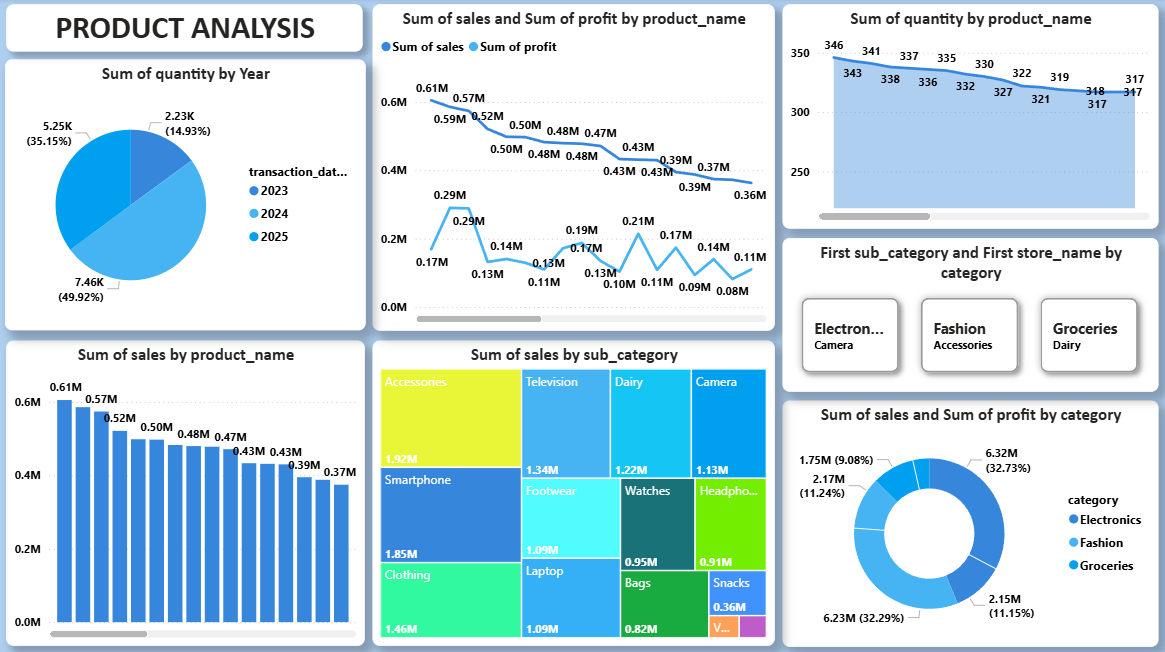

Layout of this report page (visuals, bound fields, positions):
{"tool":"powerbi","page":{"name":"PRODUCT ANALYSIS","canvas":[1280,720],"ordinal":1},"visuals":[{"type":"columnChart","fields":{"Category":["public master_sales.product_name"],"Y":["Sum(public master_sales.sales)"]},"box":[7.2,376.4,393.3,335.4],"z":0},{"type":"donutChart","fields":{"Category":["public master_sales.category"],"Y":["Sum(public master_sales.sales)","Sum(public master_sales.profit)"]},"box":[859,441.6,412.6,270.2],"z":1000},{"type":"treemap","fields":{"Group":["public master_sales.sub_category"],"Values":["Sum(public master_sales.sales)"]},"box":[409,376.4,441.6,335.4],"z":2000},{"type":"lineChart","fields":{"Category":["public master_sales.product_name"],"Y":["Sum(public master_sales.sales)","Sum(public master_sales.profit)"]},"box":[409,7.2,441.6,358.3],"z":3000},{"type":"areaChart","fields":{"Category":["public master_sales.product_name"],"Y":["Sum(public master_sales.quantity)"]},"box":[859,7.2,412.6,246.1],"z":4000},{"type":"advancedSlicerVisual","fields":{"Values":["public master_sales.category"],"Label":["Min(public master_sales.sub_category)"]},"box":[859,263,412.6,168.9],"z":5000},{"type":"pieChart","fields":{"Category":["public master_sales.transaction_date.Variation.Date Hierarchy.Year","public master_sales.transaction_date.Variation.Date Hierarchy.Quarter","public master_sales.transaction_date.Variation.Date Hierarchy.Month","public master_sales.transaction_date.Variation.Date Hierarchy.Day"],"Y":["Sum(public master_sales.quantity)"]},"box":[4.8,67.6,395.7,298],"z":6000},{"type":"textbox","title":"PRODUCT ANALYSIS","box":[7.2,7.2,390.9,51.9],"z":7000}]}

Visuals, with their boxes in screenshot pixels (x1, y1, x2, y2), scaled from the page's 1280x720 canvas onto the 1165x652 screenshot:
columnChart - public master_sales.product_name x Sum(public master_sales.sales): Rect(7, 341, 365, 645)
donutChart - public master_sales.category x Sum(public master_sales.sales): Rect(782, 400, 1157, 645)
treemap - public master_sales.sub_category x Sum(public master_sales.sales): Rect(372, 341, 774, 645)
lineChart - public master_sales.product_name x Sum(public master_sales.sales): Rect(372, 7, 774, 331)
areaChart - public master_sales.product_name x Sum(public master_sales.quantity): Rect(782, 7, 1157, 229)
advancedSlicerVisual - public master_sales.category x Min(public master_sales.sub_category): Rect(782, 238, 1157, 391)
pieChart - public master_sales.transaction_date.Variation.Date Hierarchy.Year x public master_sales.transaction_date.Variation.Date Hierarchy.Quarter: Rect(4, 61, 365, 331)
"PRODUCT ANALYSIS" textbox: Rect(7, 7, 362, 54)
